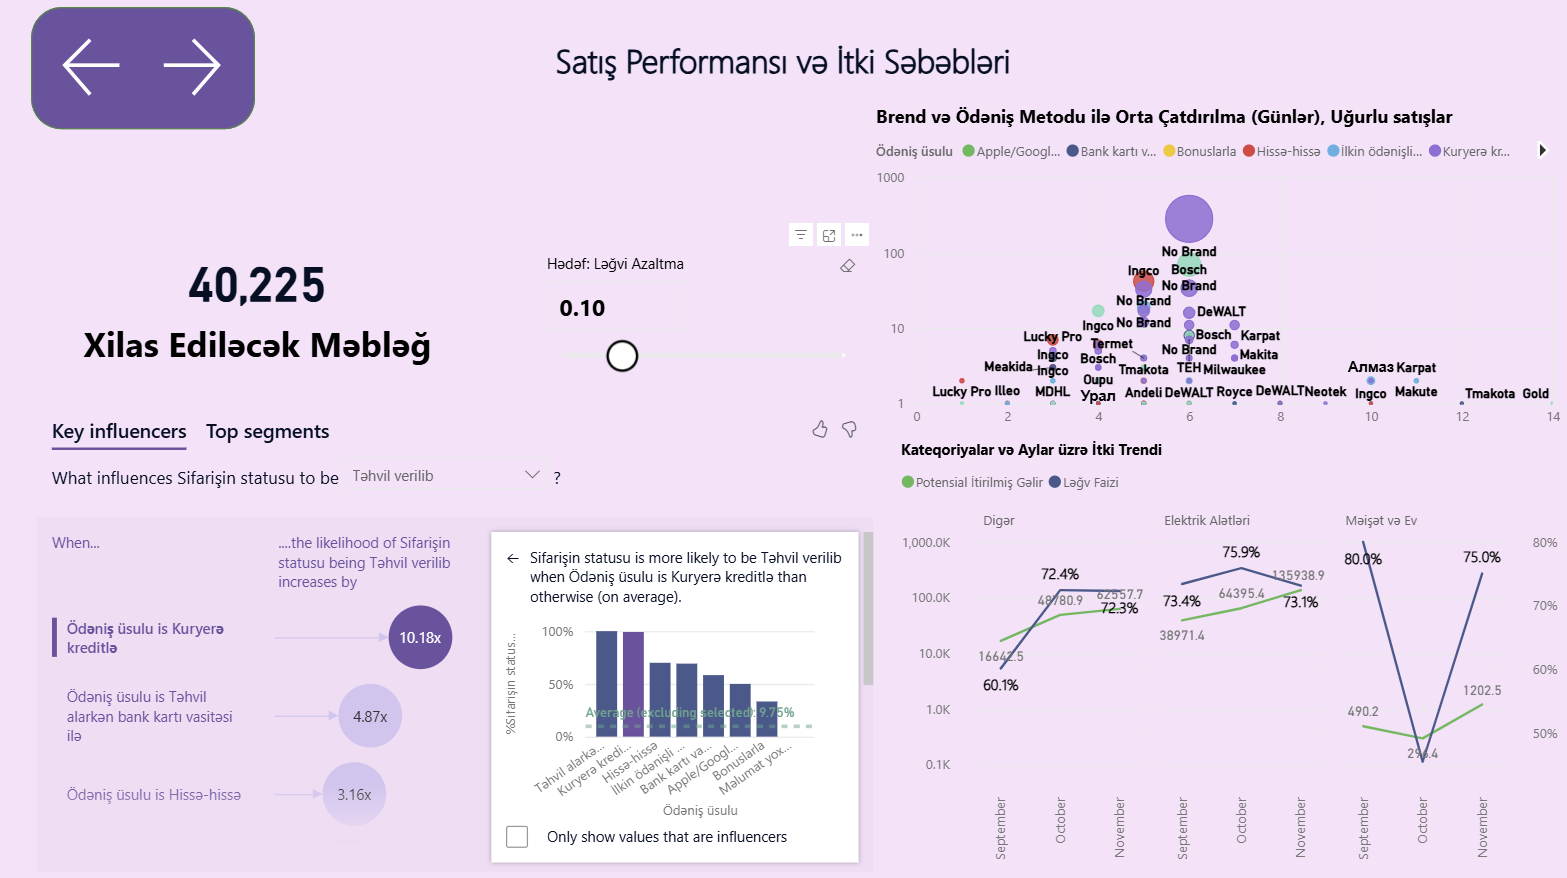

This screenshot's page, from the dashboard's own definition file:
{"tool":"powerbi","page":{"name":"Satış Performansı","canvas":[1280,720],"ordinal":2},"visuals":[{"type":"shape","box":[25,7,183,100],"z":0},{"type":"actionButton","box":[46,27,62,59],"z":1000},{"type":"actionButton","box":[127,27,70,59],"z":2000},{"type":"keyDriversVisual","fields":{"Target":["Export.Sifarişin statusu"],"ExplainBy":["Export.Brend","Export.Məhsul kateqoriyasının adı (AZ)","Export.Ödəniş üsulu"]},"box":[25.5,329.6,693.2,390.2],"z":3000},{"type":"lineChart","title":"Kateqoriyalar və Aylar üzrə İtki Trendi","fields":{"Category":["DateTable.Date.Variation.Date Hierarchy.Month"],"Y":["Export.Potensial İtirilmiş Gəlir"],"Y2":["Export.Ləğv Faizi"],"Rows":["Export.Ana Kateqoriya"]},"box":[730.7,360,549,360],"z":4000},{"type":"scatterChart","title":"Brend və Ödəniş Metodu ilə Orta Çatdırılma (Günlər), Uğurlu satışlar","fields":{"X":["Export.Orta Çatdırılma (Gün)"],"Category":["Export.Brend"],"Size":["Export.Ümumi Sifarişlər"],"Y":["Export.Uğurlu Satışlar"],"Series":["Export.Ödəniş üsulu"]},"box":[711,86,568.7,274],"z":5000},{"type":"textbox","box":[350.8,26.6,578.3,51],"z":6000},{"type":"slicer","fields":{"Values":["Hədəf: Ləğvi Azaltma.Hədəf: Ləğvi Azaltma"]},"box":[433.4,203.3,277.6,111],"z":7000},{"type":"card","fields":{"Values":["Export.Xilas Ediləcək Məbləğ"]},"box":[25.5,168,370,161.6],"z":8000}]}

Visuals, with their boxes in screenshot pixels (x1, y1, x2, y2), scaled from the page's 1280x720 canvas onto the 1567x878 screenshot:
shape: 31 9 255 130
actionButton: 56 33 132 105
actionButton: 155 33 241 105
keyDriversVisual - Export.Sifarişin statusu x Export.Brend: 31 402 880 877
"Kateqoriyalar və Aylar üzrə İtki Trendi" lineChart: 895 439 1566 877
"Brend və Ödəniş Metodu ilə Orta Çatdırılma (Günlər), Uğurlu satışlar" scatterChart: 870 105 1566 439
textbox: 429 32 1137 95
slicer - Hədəf: Ləğvi Azaltma.Hədəf: Ləğvi Azaltma: 531 248 870 383
card - Export.Xilas Ediləcək Məbləğ: 31 205 484 402
